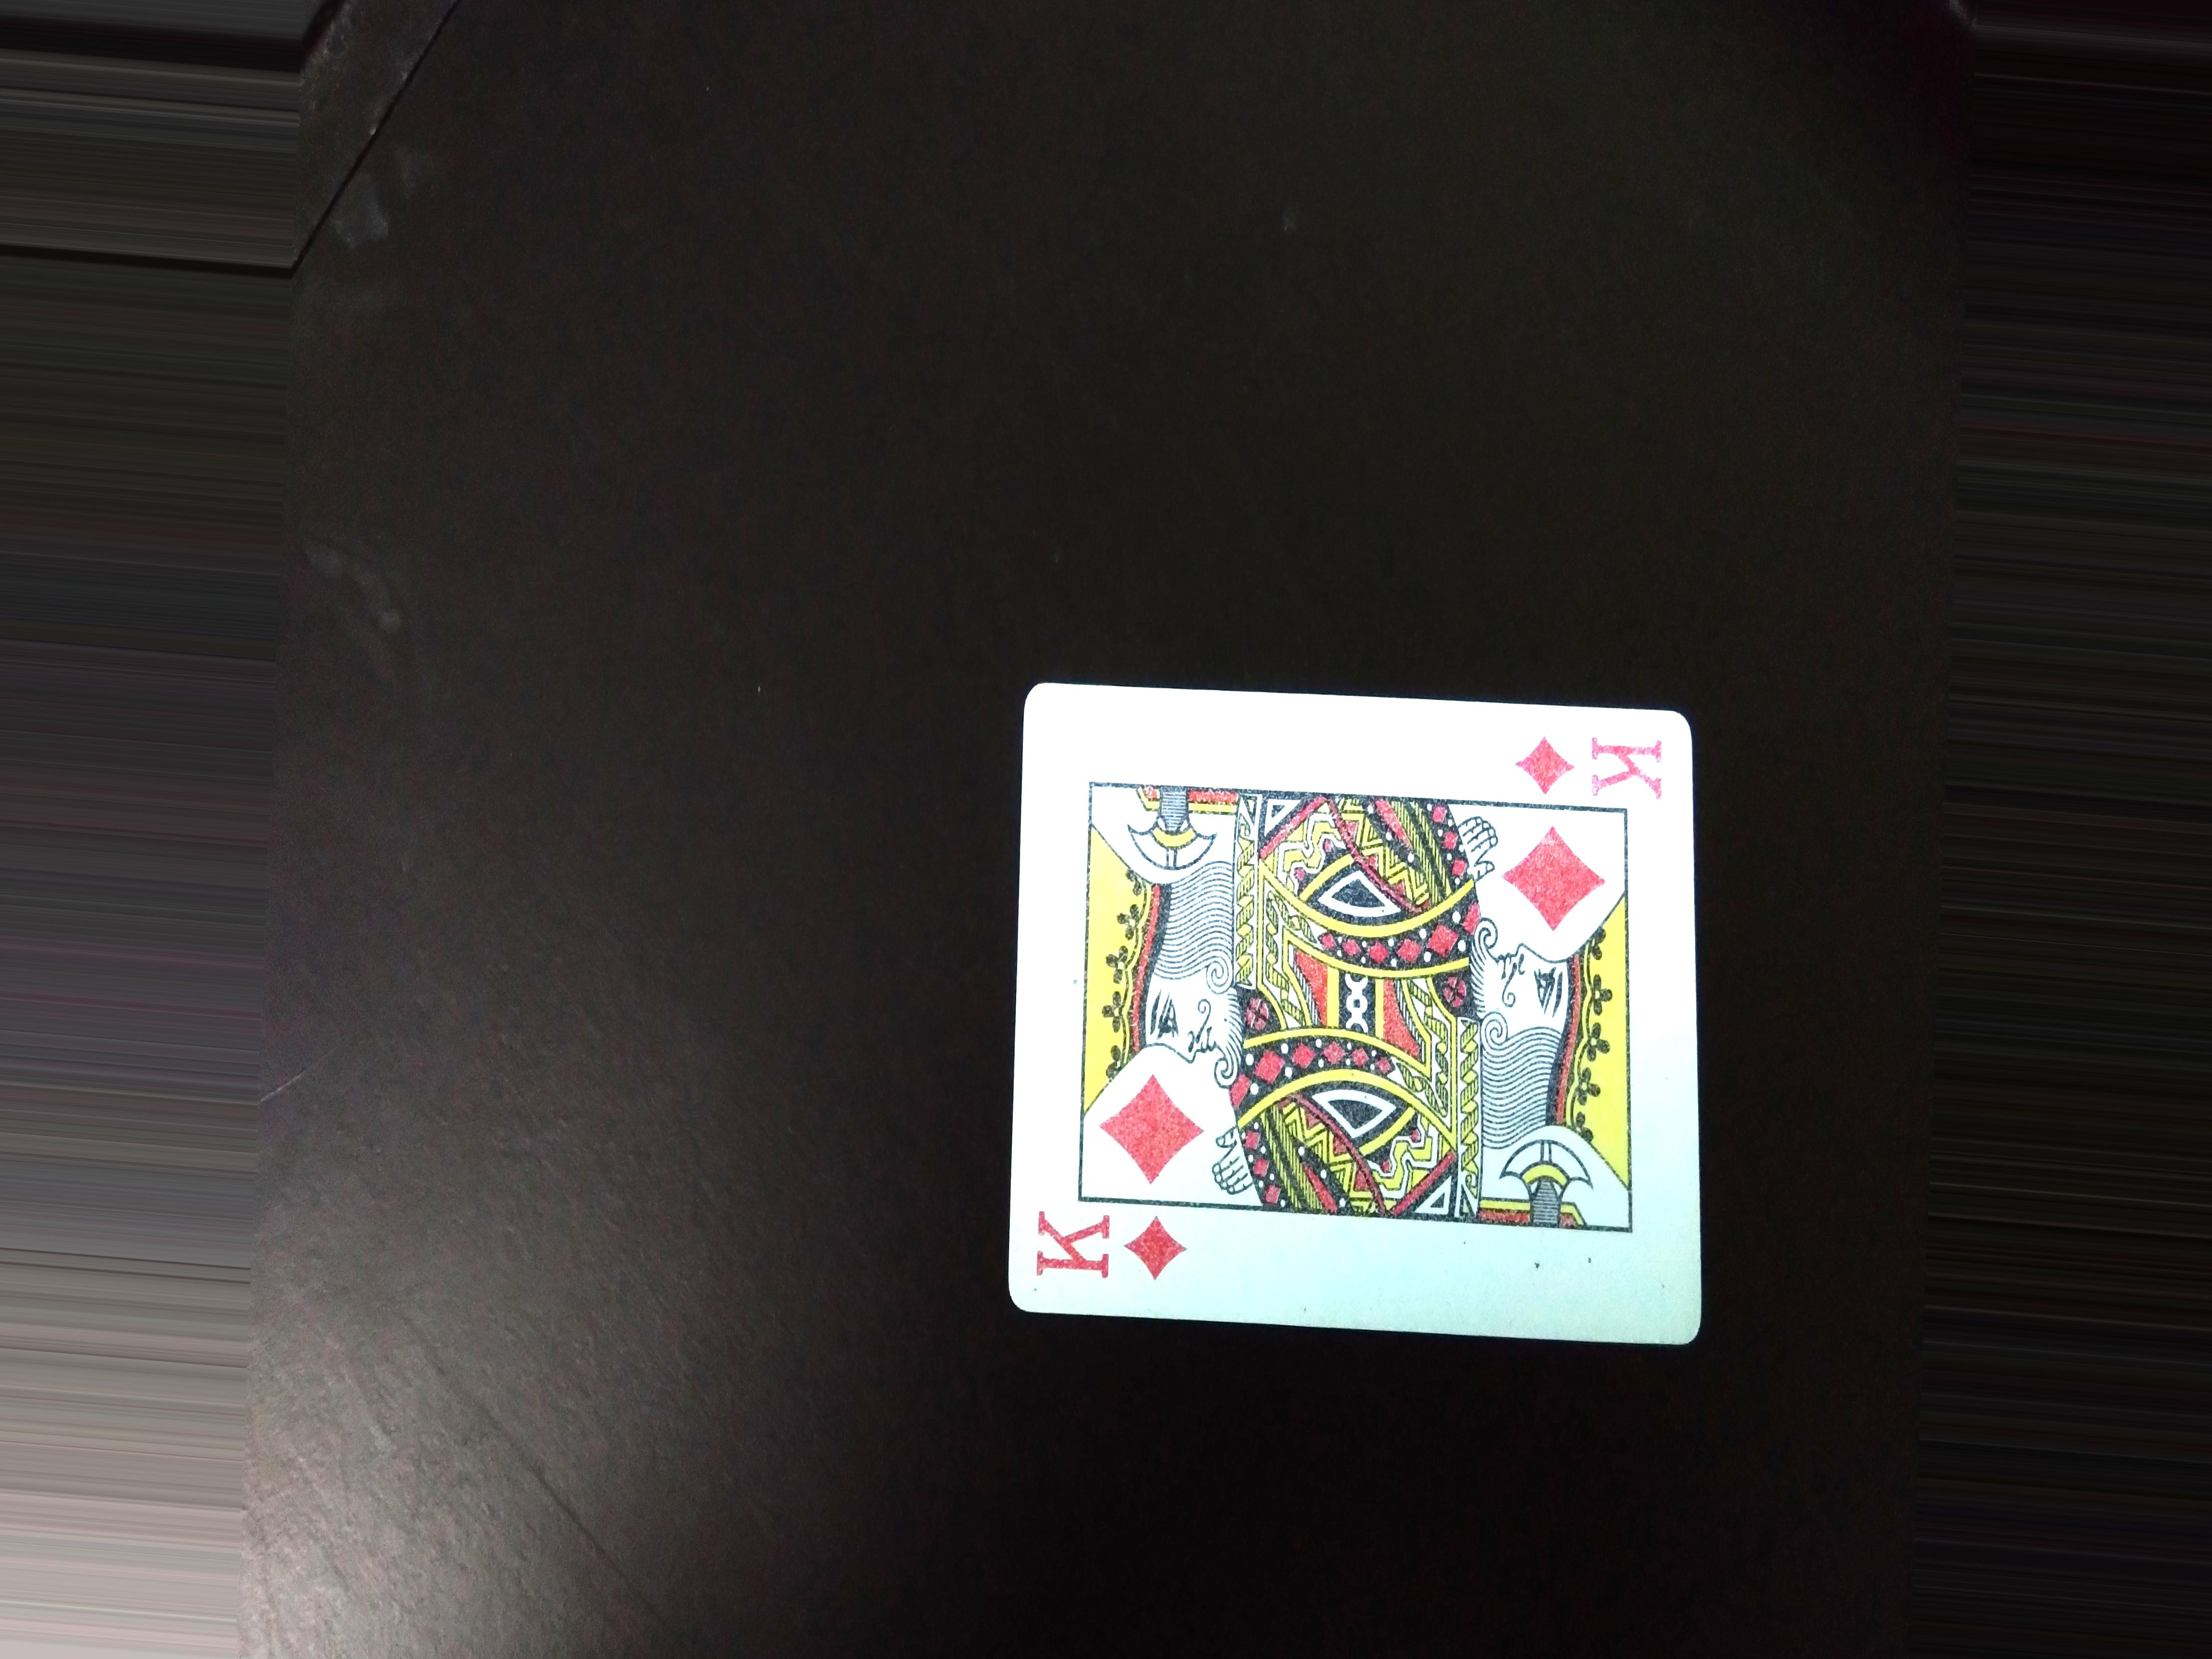KD: (1503, 713, 1691, 816)
